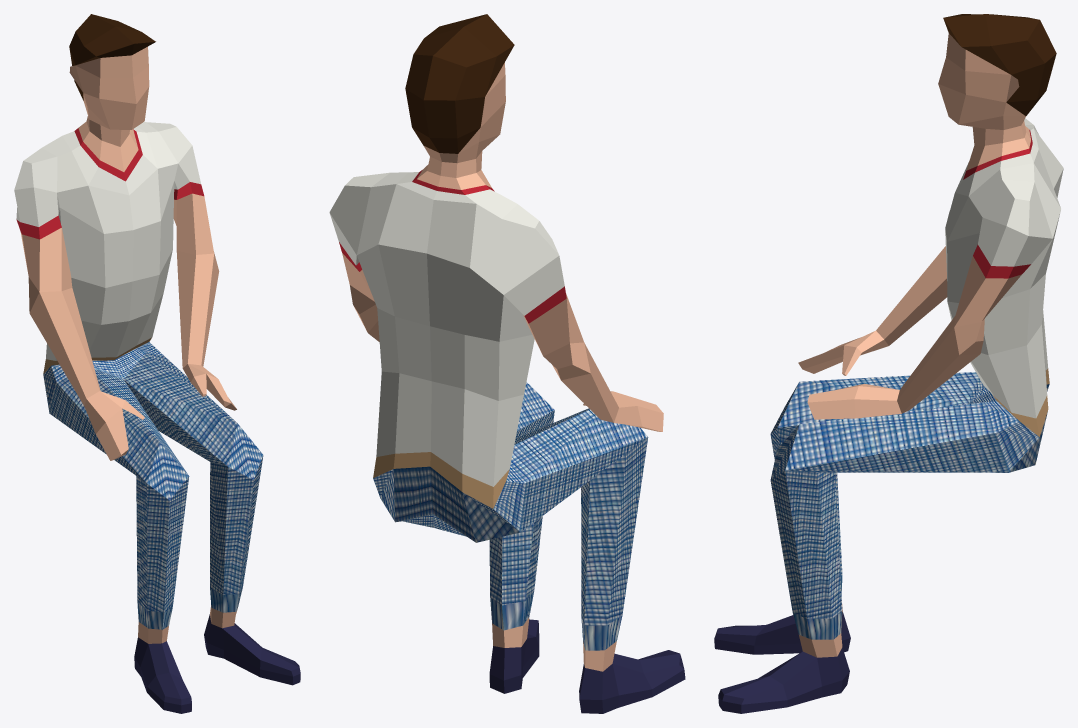
File: SpringManB.009.glb
3 views of the same model, side by side, from view 1: azimuth 30°, elevation 25°; view 2: azimuth 150°, elevation 25°; view 3: azimuth 270°, elevation 25° (orthographic). The views are drawn at different scales.
Parts seen in each view (by area): view 1: SpringManB.010; view 2: SpringManB.010; view 3: SpringManB.010.
Part boxes in pixels (box(x1,y1,x2,y2)): SpringManB.010: box(14, 14, 300, 713); SpringManB.010: box(329, 14, 685, 713); SpringManB.010: box(714, 14, 1063, 713).
Size of the model in its own units: 0.4566 by 1.38 by 0.6616.
Materials: 1 (1 with a texture image).
